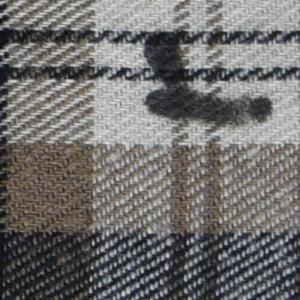Stain: (137, 32, 275, 134)
